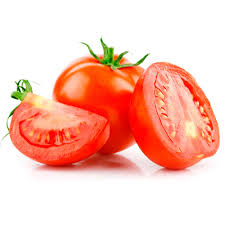tomate: (8, 46, 218, 173)
